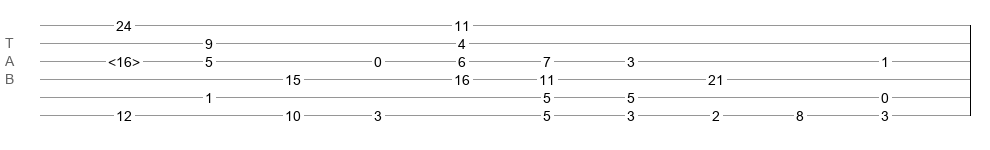0: (374, 54, 382, 64), (881, 90, 889, 100)
1: (205, 90, 213, 100), (881, 54, 889, 64)
10: (285, 108, 301, 118)
11: (454, 18, 470, 28), (539, 72, 555, 82)
12: (116, 108, 132, 118)
15: (285, 72, 301, 82)
16: (454, 72, 470, 82)
2: (712, 108, 720, 118)
21: (708, 72, 724, 82)
24: (116, 18, 132, 28)
3: (374, 108, 382, 118), (627, 54, 635, 64), (627, 108, 635, 118), (881, 108, 889, 118)
4: (458, 36, 466, 46)
5: (205, 54, 213, 64), (543, 90, 551, 100), (543, 108, 551, 118), (627, 90, 635, 100)
6: (458, 54, 466, 64)
7: (543, 54, 551, 64)
8: (796, 108, 804, 118)
9: (205, 36, 213, 46)
harmonic: (108, 54, 140, 64)
